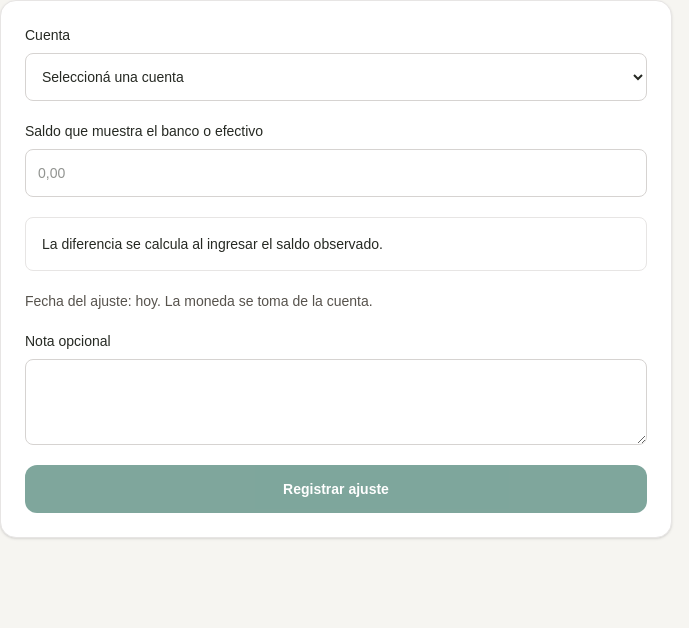
Scenario: formulario de ajuste manual › explica que un saldo igual no genera un movimiento
Select "Itaú pesos · UYU" in the dropdown labelled "Cuenta" at {"x": 336, "y": 77}, box x1=25 y1=53 x2=647 y2=101
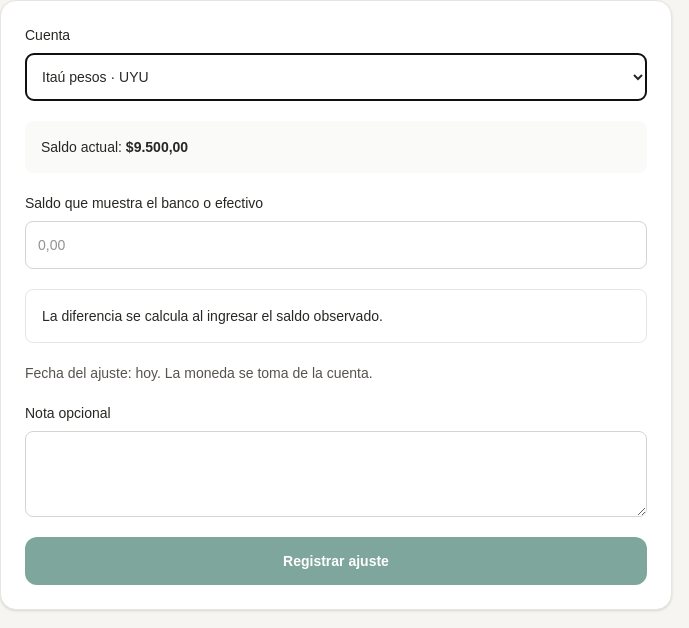
Type "9500" into the field labelled "Saldo que muestra el banco o efectivo" at {"x": 336, "y": 245}, box x1=25 y1=221 x2=647 y2=269
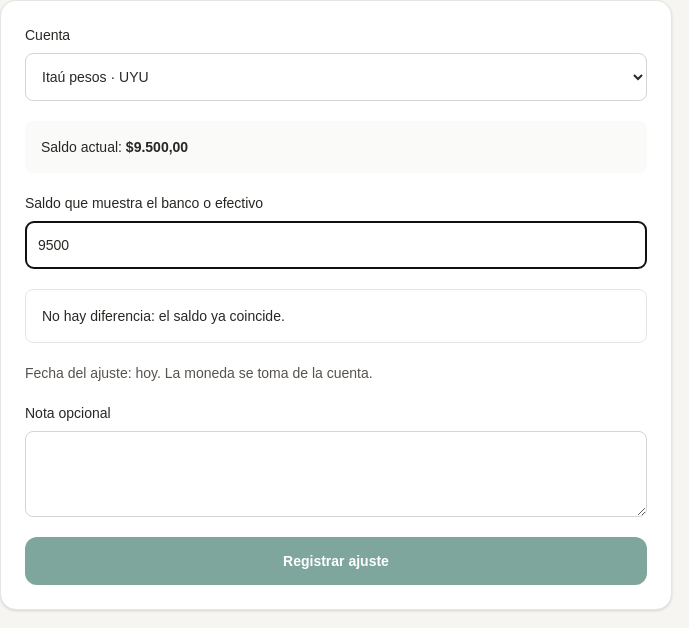
Expected: the button "Registrar ajuste" is disabled, x1=25 y1=537 x2=647 y2=585
Expected: the text "No hay diferencia: el saldo ya coincide." is shown, x1=25 y1=289 x2=647 y2=343
